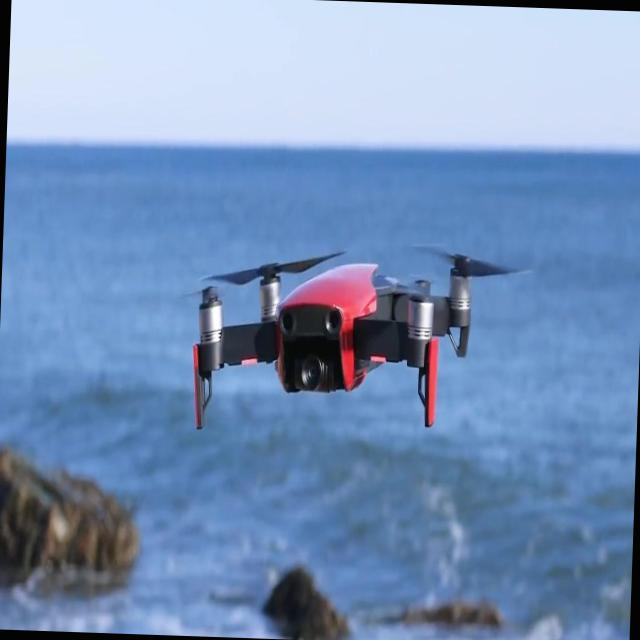drone: (186, 230, 490, 442)
